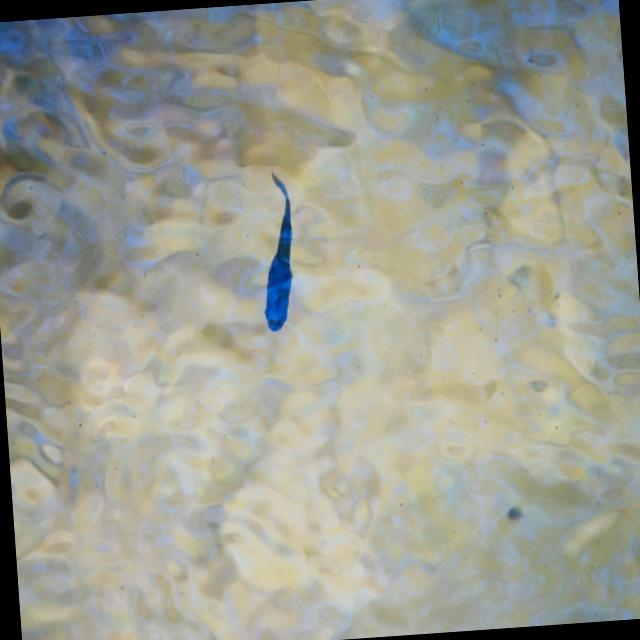Sivrisinek Baligi: (260, 170, 298, 348)
